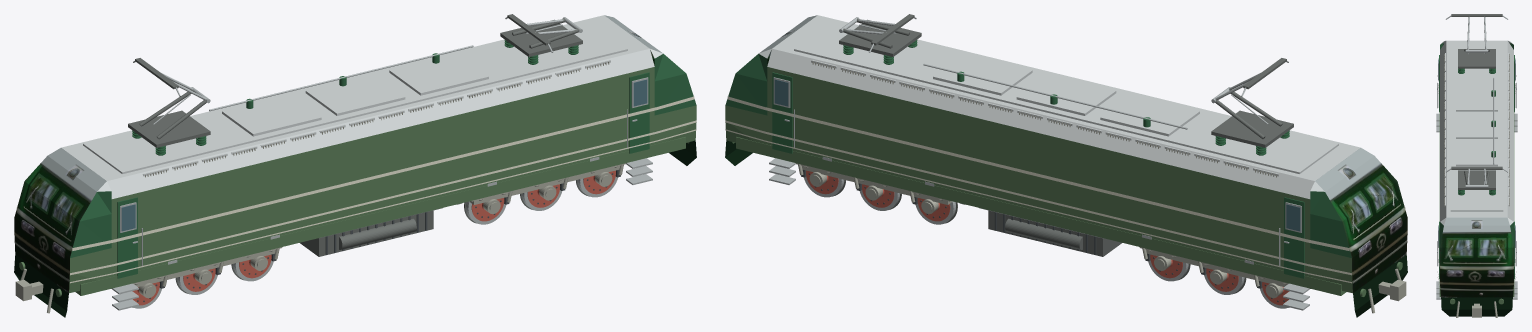
File: HXD3D_locomotive_green.glb
3 views of the same model, side by side, from view 1: azimuth 30°, elevation 25°; view 2: azimuth 150°, elevation 25°; view 3: azimuth 270°, elevation 25° (orthographic). The views are drawn at different scales.
Parts seen in each view (by area): view 1: Body_main_shell, Silver_roof_shoulders, Red_side_sweep_-1, Roof_equipment_deck, Main_frame, Side_logo_-1, Upper_side_band_-1, Cab_-1_front_4, Roof_access_panel_2.7, Roof_access_panel_-2.7, Roof_access_panel_0, Cab_-1_front_5 (+24 smaller); view 2: Body_main_shell, Silver_roof_shoulders, Red_side_sweep_1, Roof_equipment_deck, Main_frame, Side_logo_1, Upper_side_band_1, Cab_-1_front_4, Cab_-1_front_5, Roof_access_panel_0, Roof_access_panel_2.7, Roof_access_panel_-2.7 (+24 smaller); view 3: Roof_equipment_deck, Silver_roof_shoulders, Cab_1_front_4, Cab_1_front_5, Cab_1_front_2, Roof_access_panel_2.7, Roof_access_panel_-2.7, Roof_access_panel_0, Cab_1_front_1, Cab_1_front_3, Pantograph_0_base, Pantograph_1_base (+10 smaller).
Boxes of the visible parts, x1,y1,x2,y2 form: Body_main_shell: (111, 67, 654, 276); Silver_roof_shoulders: (61, 15, 654, 198); Red_side_sweep_-1: (164, 97, 602, 227); Roof_equipment_deck: (83, 20, 627, 173); Main_frame: (75, 137, 685, 295); Side_logo_-1: (309, 140, 457, 208); Upper_side_band_-1: (113, 67, 653, 206); Cab_-1_front_4: (14, 181, 79, 257); Roof_access_panel_2.7: (389, 53, 488, 95); Roof_access_panel_-2.7: (222, 94, 321, 136); Roof_access_panel_0: (305, 74, 405, 115); Cab_-1_front_5: (25, 156, 96, 221); Body_main_shell: (767, 67, 1310, 276); Silver_roof_shoulders: (767, 15, 1360, 198); Red_side_sweep_1: (819, 97, 1257, 227); Roof_equipment_deck: (794, 20, 1338, 173); Main_frame: (736, 137, 1346, 295); Side_logo_1: (964, 140, 1112, 208); Upper_side_band_1: (768, 67, 1308, 206); Cab_-1_front_4: (1342, 181, 1407, 257); Cab_-1_front_5: (1325, 156, 1396, 221); Roof_access_panel_0: (1016, 74, 1116, 115); Roof_access_panel_2.7: (933, 53, 1032, 95); Roof_access_panel_-2.7: (1100, 94, 1199, 136); Roof_equipment_deck: (1450, 45, 1503, 211); Silver_roof_shoulders: (1440, 40, 1513, 221); Cab_1_front_4: (1440, 247, 1513, 273); Cab_1_front_5: (1440, 225, 1513, 247); Cab_1_front_2: (1440, 283, 1513, 297); Roof_access_panel_2.7: (1456, 142, 1497, 166); Roof_access_panel_-2.7: (1456, 88, 1497, 111); Roof_access_panel_0: (1456, 115, 1497, 138); Cab_1_front_1: (1441, 297, 1512, 309); Cab_1_front_3: (1440, 273, 1513, 283); Pantograph_0_base: (1458, 49, 1495, 68); Pantograph_1_base: (1458, 170, 1495, 189).
Size of the model in its own units: 21.65 by 6.71 by 3.4.
Materials: 11 (1 with a texture image).
